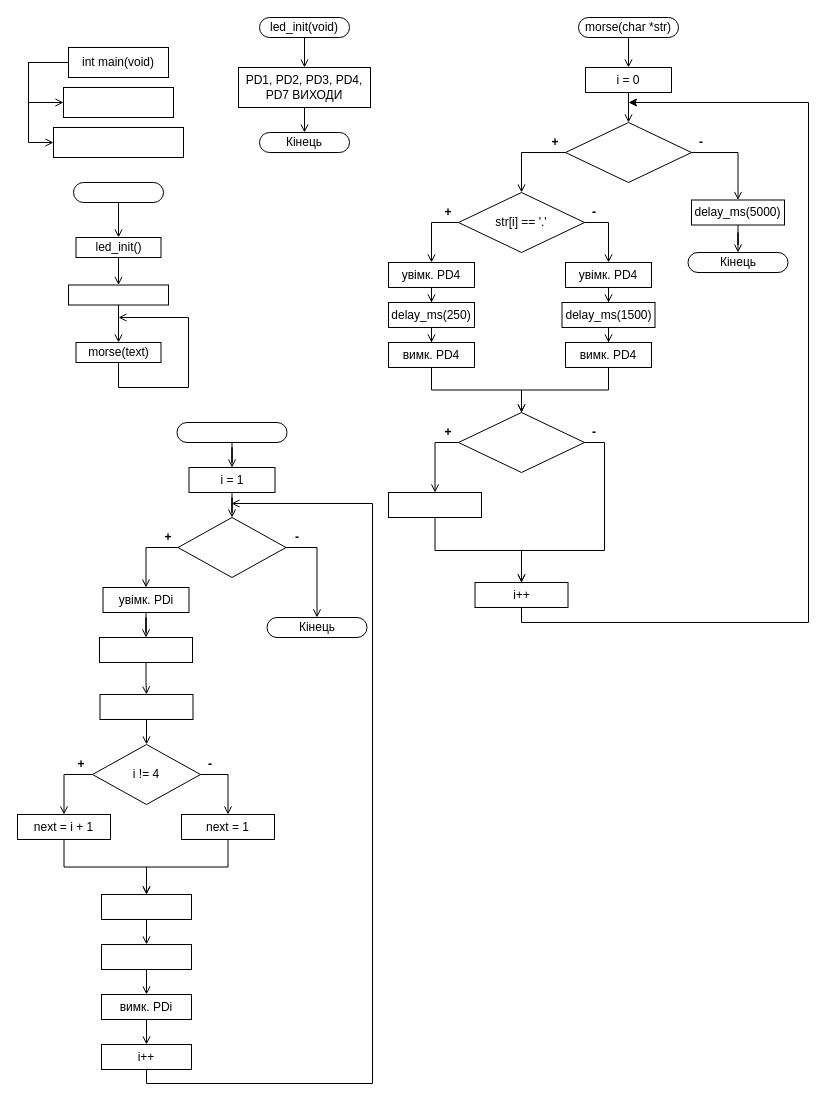
Some shapes in this 834 by 1109 pixel diagram are drawn without their labels. The centre of each missing label's shape, as x and y in pixels:
delay_ms(100): (146,957)
delay_ms(1000): (435,505)
delay_ms(500): (145,649)
i < 5: (231,547)
main(void): (118,192)
next: (146,707)
running_fire(void): (231,432)
str[i+1] != '\0': (521,442)
str[i] != '\0': (628,152)
text[] = "...---...": (118,294)
void led_init(void): (118,102)
void morse(char *str): (118,142)
увімк. PDnext: (146,907)
